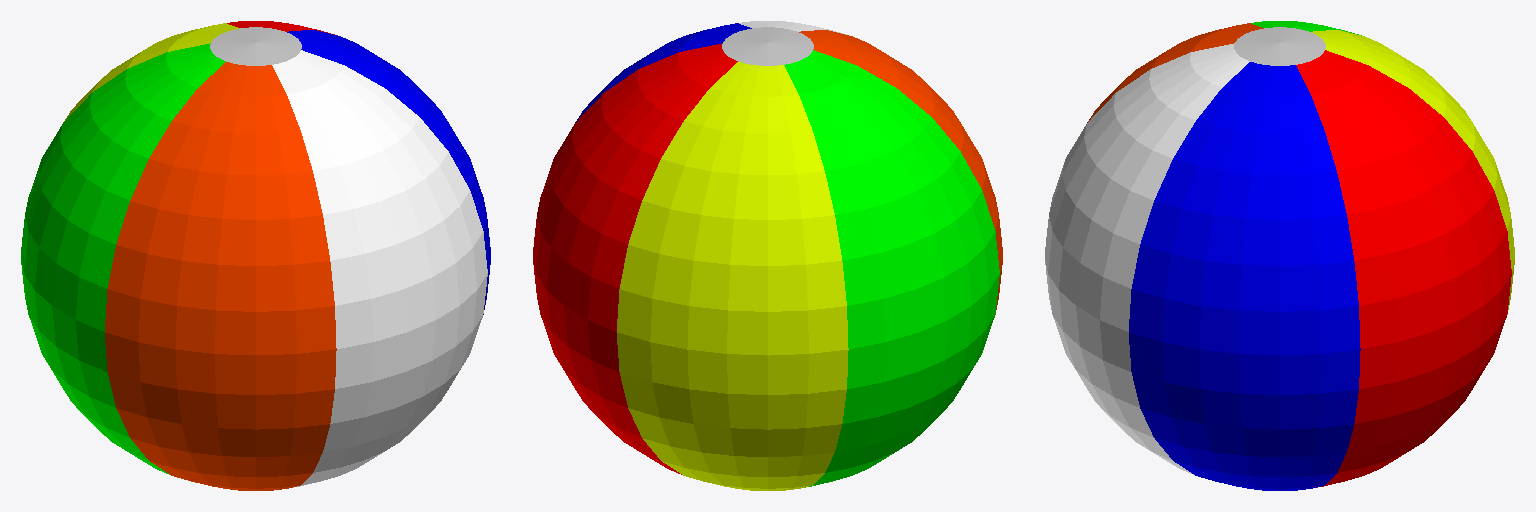
The model's file is beach-ball.obj.
3 renders of one model, left to right at view 1: azimuth 30°, elevation 25°; view 2: azimuth 150°, elevation 25°; view 3: azimuth 270°, elevation 25°, orthographic.
Parts seen in each view (by area): view 1: Sphere; view 2: Sphere; view 3: Sphere.
Boxes of the visible parts, box(x1,y1,x2,y2) form: Sphere: box(21, 21, 490, 490); Sphere: box(533, 21, 1002, 490); Sphere: box(1045, 21, 1514, 490).
Size of the model in its own units: 2 by 2 by 2.